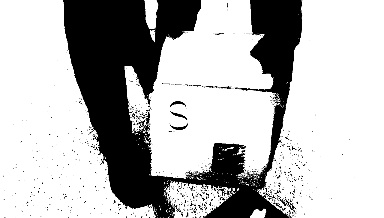S: (161, 96, 193, 132)
